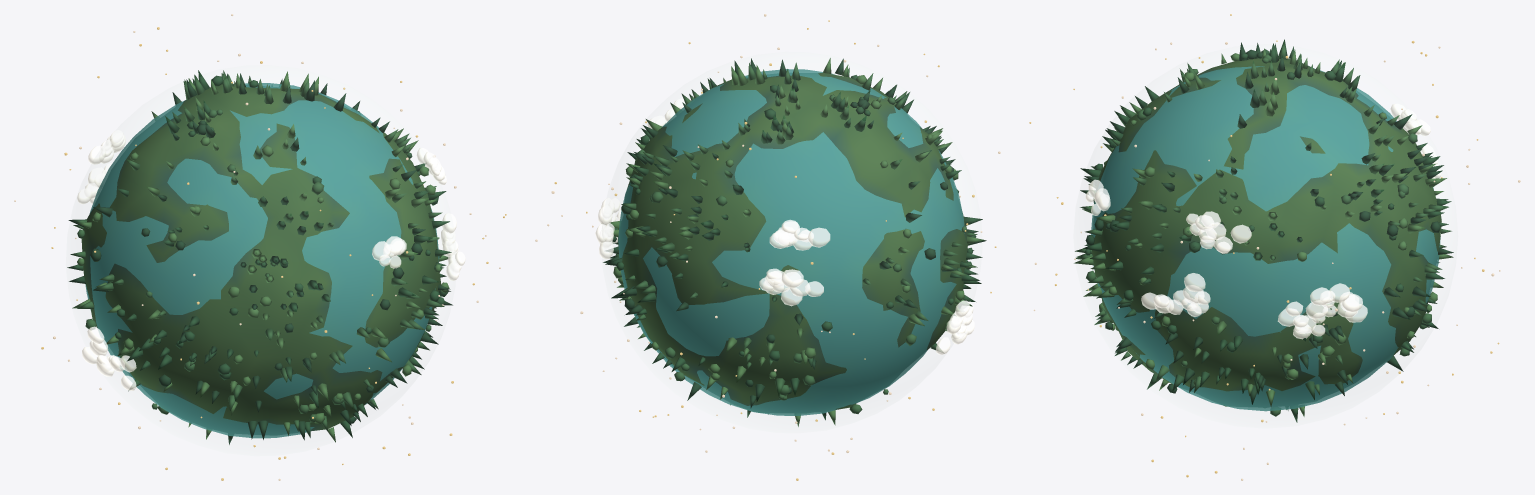
File: planet_grove.glb
The picture shows the model from 3 angles, left to right: view 1: azimuth 30°, elevation 25°; view 2: azimuth 150°, elevation 25°; view 3: azimuth 270°, elevation 25°; orthographic projection. The views are drawn at different scales.
Parts seen in each view (by area): view 1: Terrain, Lake, Forest, MistPuffs, Fireflies; view 2: Lake, Terrain, Forest, MistPuffs, Fireflies; view 3: Terrain, Lake, Forest, MistPuffs, Fireflies.
Part boxes in pixels (x1,y1,x2,y2): Terrain: (81,84,441,431); Lake: (85,83,439,438); Forest: (67,70,452,444); MistPuffs: (77,130,465,390); Fireflies: (14,14,506,480); Lake: (618,69,964,415); Terrain: (618,73,967,409); Forest: (603,58,986,426); MistPuffs: (595,97,974,354); Fireflies: (535,14,1000,480); Terrain: (1092,58,1441,406); Lake: (1091,66,1440,411); Forest: (1074,39,1453,422); MistPuffs: (1085,103,1441,339); Fireflies: (1029,14,1520,480).
Bounding box in the file's own units: 2.7 × 2.59 × 2.81.
